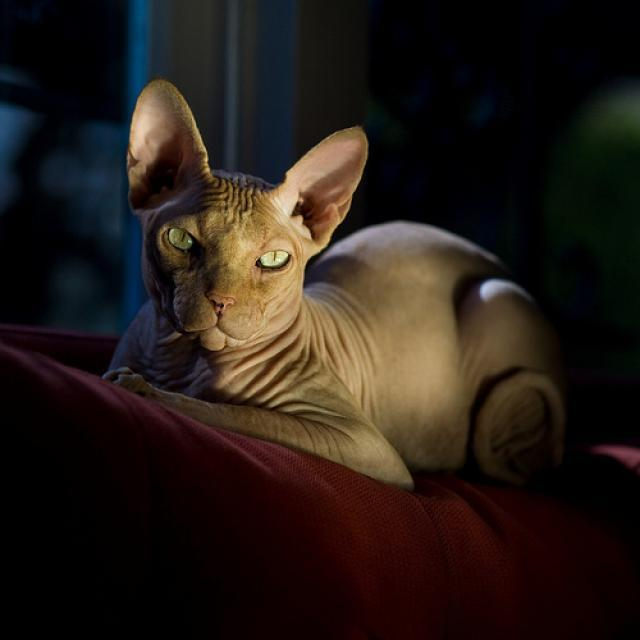Sphynx: (126, 77, 366, 349)
